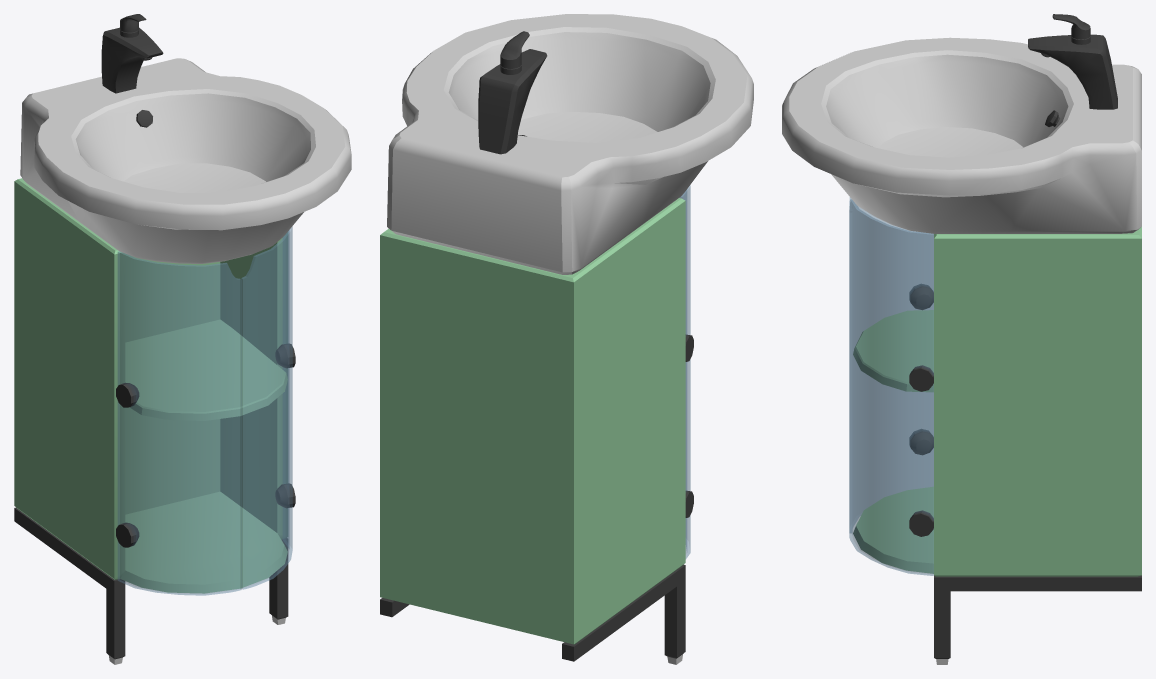
File: KOHLER17518T.FBX
3 views of the same model, side by side, from view 1: azimuth 30°, elevation 25°; view 2: azimuth 150°, elevation 25°; view 3: azimuth 270°, elevation 25° (orthographic). The views are drawn at different scales.
Visible parts, largest first — view 1: KOHLER17518T; view 2: KOHLER17518T; view 3: KOHLER17518T.
Part boxes in pixels (left/top/right/bottom): KOHLER17518T: left=14, top=14, right=351, bottom=664; KOHLER17518T: left=380, top=14, right=753, bottom=664; KOHLER17518T: left=782, top=14, right=1141, bottom=664.
Size of the model in its own units: 48.2 by 53.5 by 99.5.
